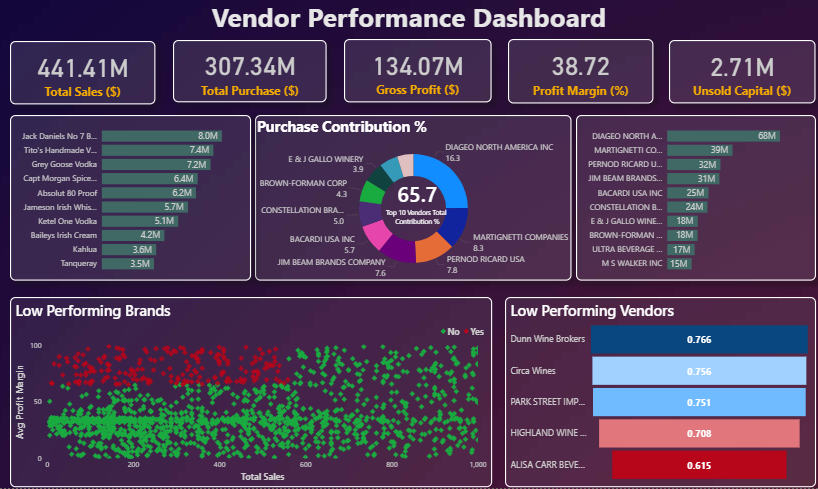

Layout of this report page (visuals, bound fields, positions):
{"tool":"powerbi","page":{"name":"Page 1","canvas":[1500,900],"ordinal":0},"visuals":[{"type":"card","fields":{"Values":["Sum(vendor_sales_summary.TotalPurchaseDollars)"]},"box":[318.9,80.7,281.5,114.2],"z":0},{"type":"card","fields":{"Values":["Sum(vendor_sales_summary.TotalSalesDollars)"]},"box":[19.7,82.7,265.7,116.1],"z":1000},{"type":"card","fields":{"Values":["Sum(vendor_sales_summary.GrossProfit)"]},"box":[631.9,78.7,269.7,116.1],"z":2000},{"type":"card","fields":{"Values":["Avg(vendor_sales_summary.ProfitMargin)"]},"box":[931.1,78.7,265.7,118.1],"z":3000},{"type":"card","fields":{"Values":["Sum(vendor_sales_summary.UnsoldCapital)"]},"box":[1226.4,80.7,267.7,116.1],"z":4000},{"type":"textbox","box":[0,0,1500,83],"z":5000},{"type":"donutChart","title":"Purchase Contribution % ","fields":{"Category":["PurchaseContribution.VendorName"],"Y":["Sum(PurchaseContribution.PurchaseContribution%)"]},"box":[468.5,218.5,578.7,303.1],"z":6000},{"type":"card","fields":{"Values":["Sum(PurchaseContribution.PurchaseContribution%)"]},"box":[671.3,252,187,234.3],"z":7000},{"type":"barChart","title":"Top Vendors By Sales","fields":{"Category":["vendor_sales_summary.VendorName"],"Y":["Sum(vendor_sales_summary.TotalSalesDollars)"]},"box":[1055.1,218.5,439,303.1],"z":8000},{"type":"barChart","title":"Top Brands By Sales","fields":{"Category":["vendor_sales_summary.Description"],"Y":["Sum(vendor_sales_summary.TotalSalesDollars)"]},"box":[19.7,218.5,440.9,303.1],"z":9000},{"type":"funnel","title":"Low Performing Vendors","fields":{"Category":["LowTurnoverVendor.VendorName"],"Y":["Avg(LowTurnoverVendor.AvgStockTurnOver)"]},"box":[925.2,551.2,568.9,348.4],"z":10000},{"type":"scatterChart","title":"Low Performing Brands","fields":{"X":["Sum(BrandPerformance.TotalSales)"],"Y":["Sum(BrandPerformance.AvgProfitMargin)"],"Series":["BrandPerformance.TargetBrand"],"Category":["BrandPerformance.Description"]},"box":[19.7,551.2,881.9,348.4],"z":11000}]}

Visuals, with their boxes in screenshot pixels (x1, y1, x2, y2), scaled from the page's 1500x900 canvas onto the 818x489 screenshot:
card - Sum(vendor_sales_summary.TotalPurchaseDollars): [174, 44, 327, 106]
card - Sum(vendor_sales_summary.TotalSalesDollars): [11, 45, 156, 108]
card - Sum(vendor_sales_summary.GrossProfit): [345, 43, 492, 106]
card - Avg(vendor_sales_summary.ProfitMargin): [508, 43, 653, 107]
card - Sum(vendor_sales_summary.UnsoldCapital): [669, 44, 815, 107]
textbox: [0, 0, 817, 45]
"Purchase Contribution % " donutChart: [255, 119, 571, 283]
card - Sum(PurchaseContribution.PurchaseContribution%): [366, 137, 468, 264]
"Top Vendors By Sales" barChart: [575, 119, 815, 283]
"Top Brands By Sales" barChart: [11, 119, 251, 283]
"Low Performing Vendors" funnel: [505, 299, 815, 488]
"Low Performing Brands" scatterChart: [11, 299, 492, 488]
